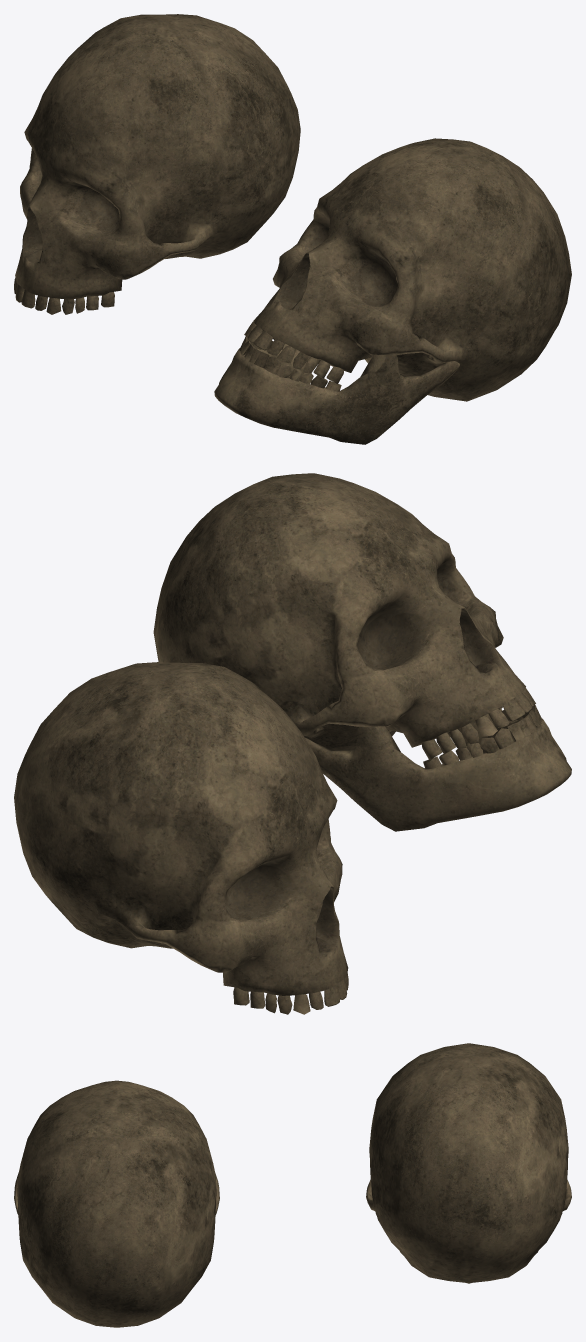
Rendered from Skulls.glb.
3 renders of one model, top to bottom at view 1: azimuth 30°, elevation 25°; view 2: azimuth 150°, elevation 25°; view 3: azimuth 270°, elevation 25°, orthographic. The views are drawn at different scales.
Visible parts, largest first — view 1: Env_PropSkull_1, Env_PropSkull_2; view 2: Env_PropSkull_1, Env_PropSkull_2; view 3: Env_PropSkull_1, Env_PropSkull_2.
Boxes of the visible parts, x1,y1,x2,y2 form: Env_PropSkull_1: (214, 138, 571, 444); Env_PropSkull_2: (14, 14, 300, 314); Env_PropSkull_1: (153, 473, 571, 831); Env_PropSkull_2: (14, 662, 348, 1014); Env_PropSkull_1: (14, 1080, 219, 1327); Env_PropSkull_2: (366, 1043, 571, 1283).
Bounding box in the file's own units: 0.4031 × 0.2803 × 0.634.
Materials: 1 (1 with a texture image).
